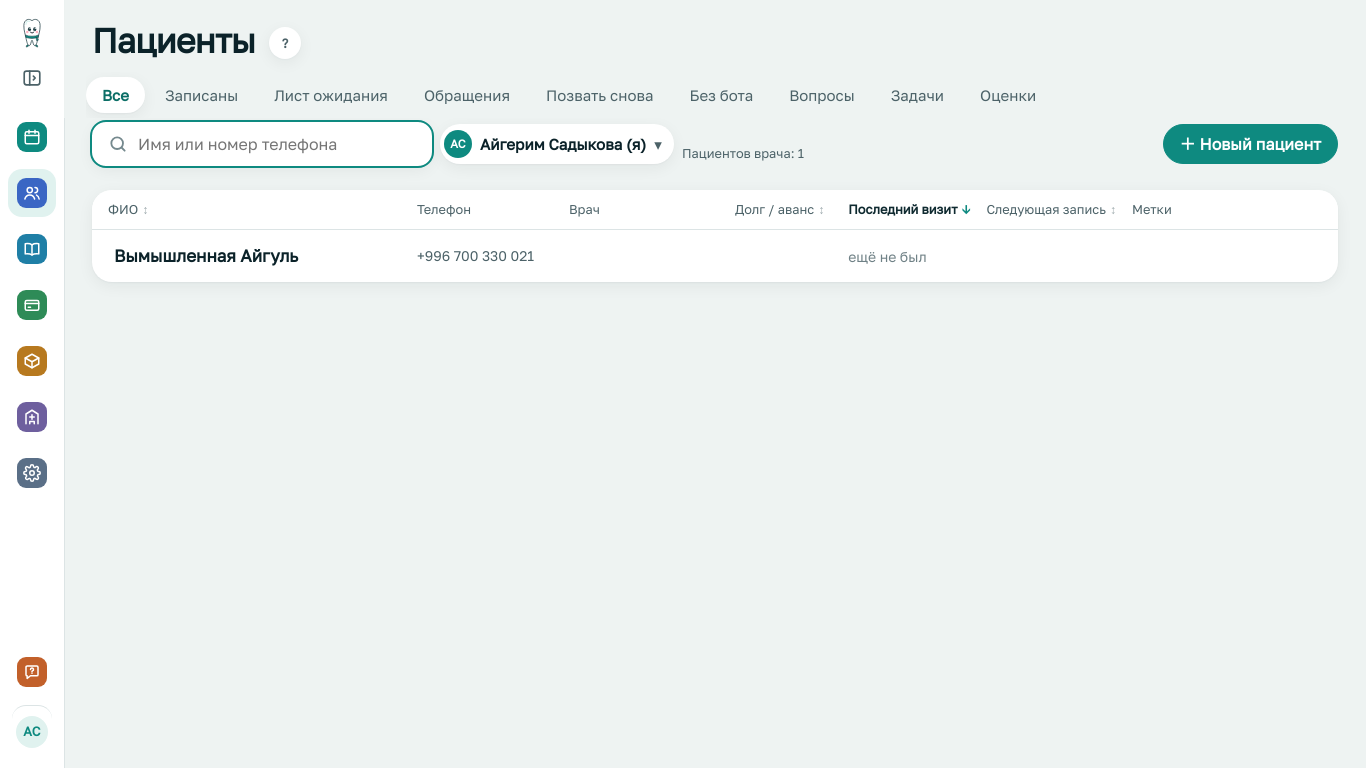
Test: семья: в шапке «аванс семьи», руководитель возвращает аванс только с причиной
Click the button "Вымышленная Айгуль".
click(206, 256)  # box [114,243,298,269]
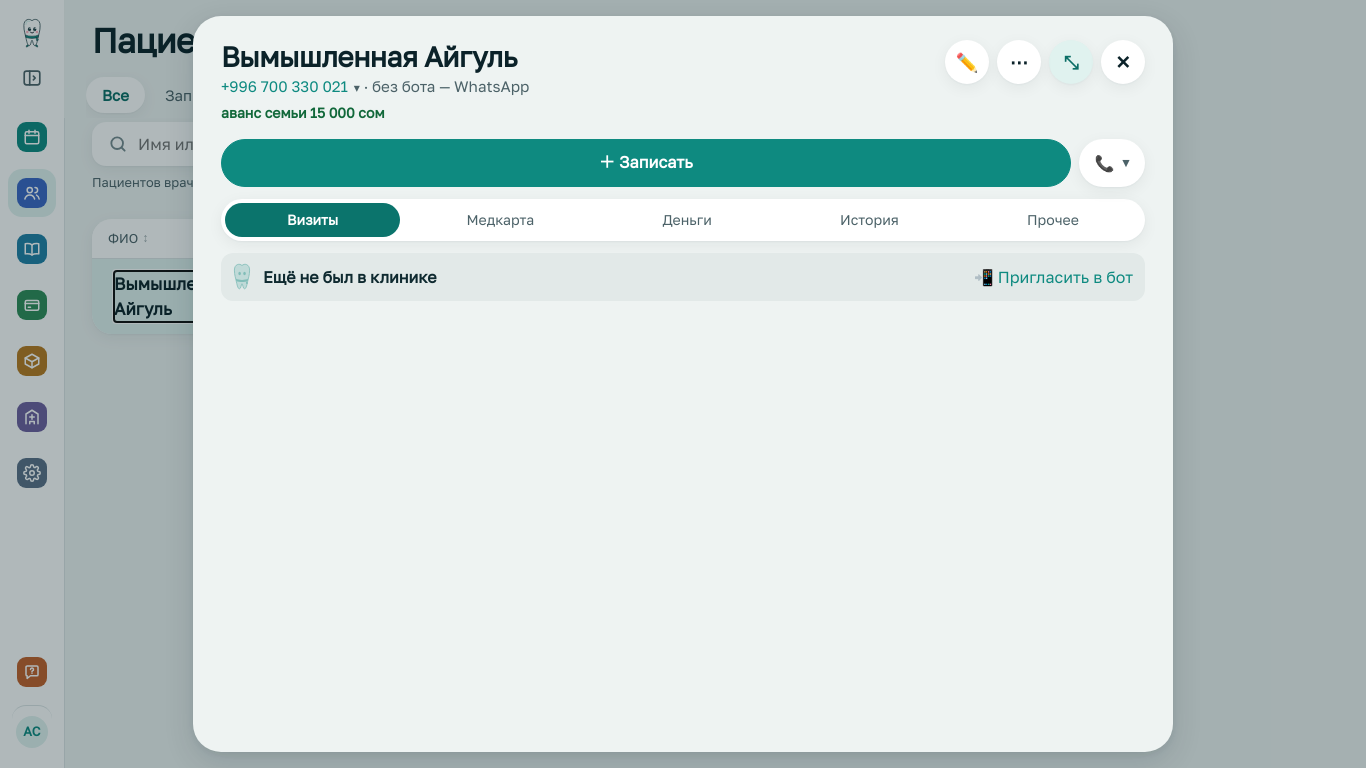
Click the button "аванс семьи 15 000 сом".
click(303, 112)  # box [221,102,385,123]
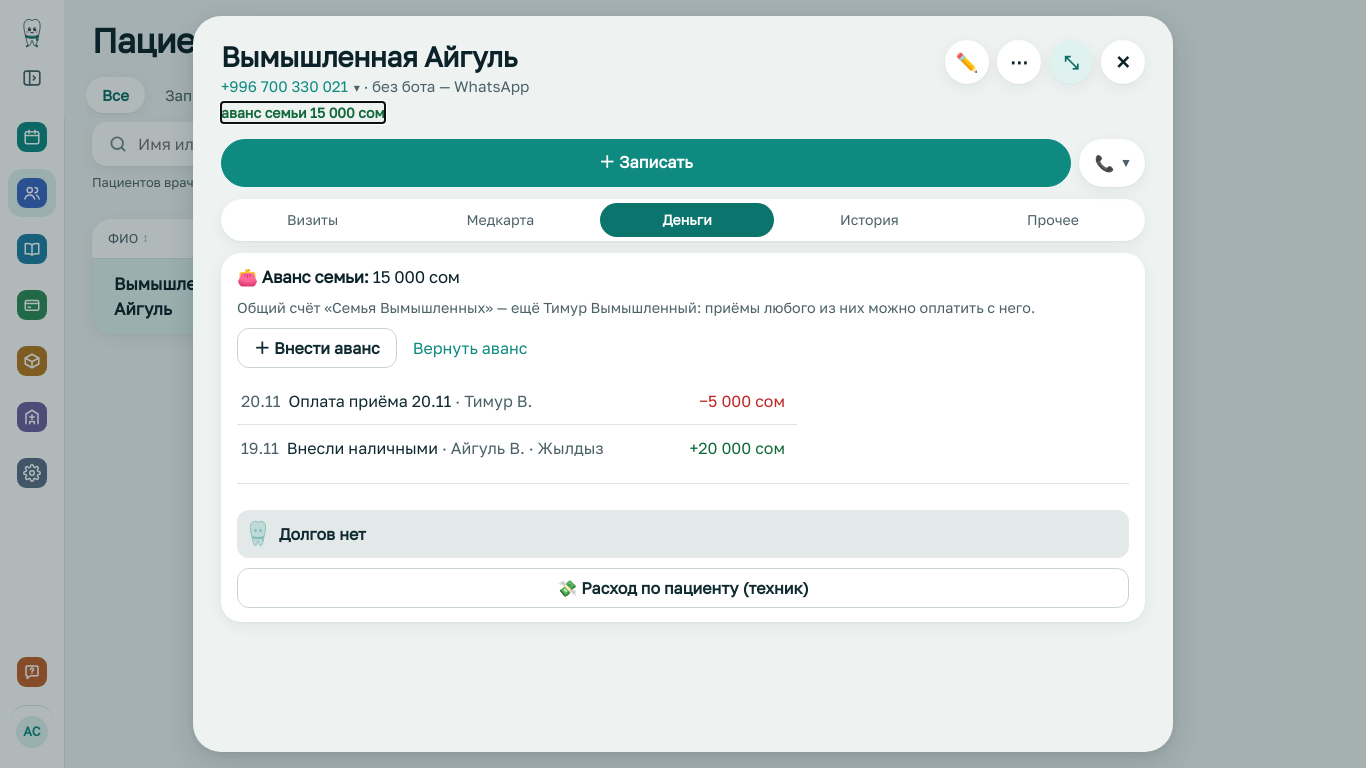
Expected: the text "Общий счёт «Семья Вымышленных» — ещё Тимур Вымышленный" is shown, [237,296,1129,318]
Click the button "Вернуть аванс".
click(470, 348)  # box [413,336,527,360]
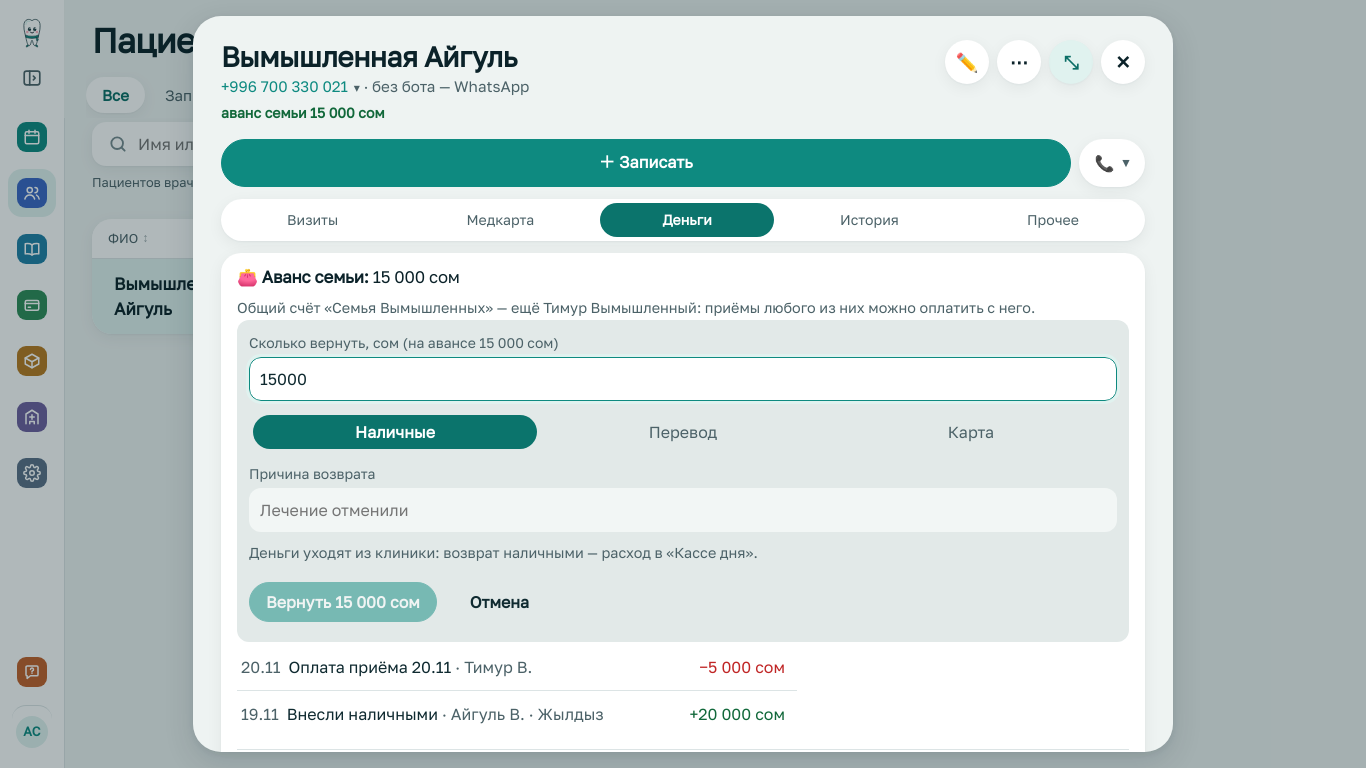
Expected: the field labelled "Сколько вернуть, сом (на авансе 15 000 сом)" holds "15000"
Replace the text in the field labelled "Сколько вернуть, сом (на авансе 15 000 сом)" with "5000" at (683,379), box [249,357,1117,401]
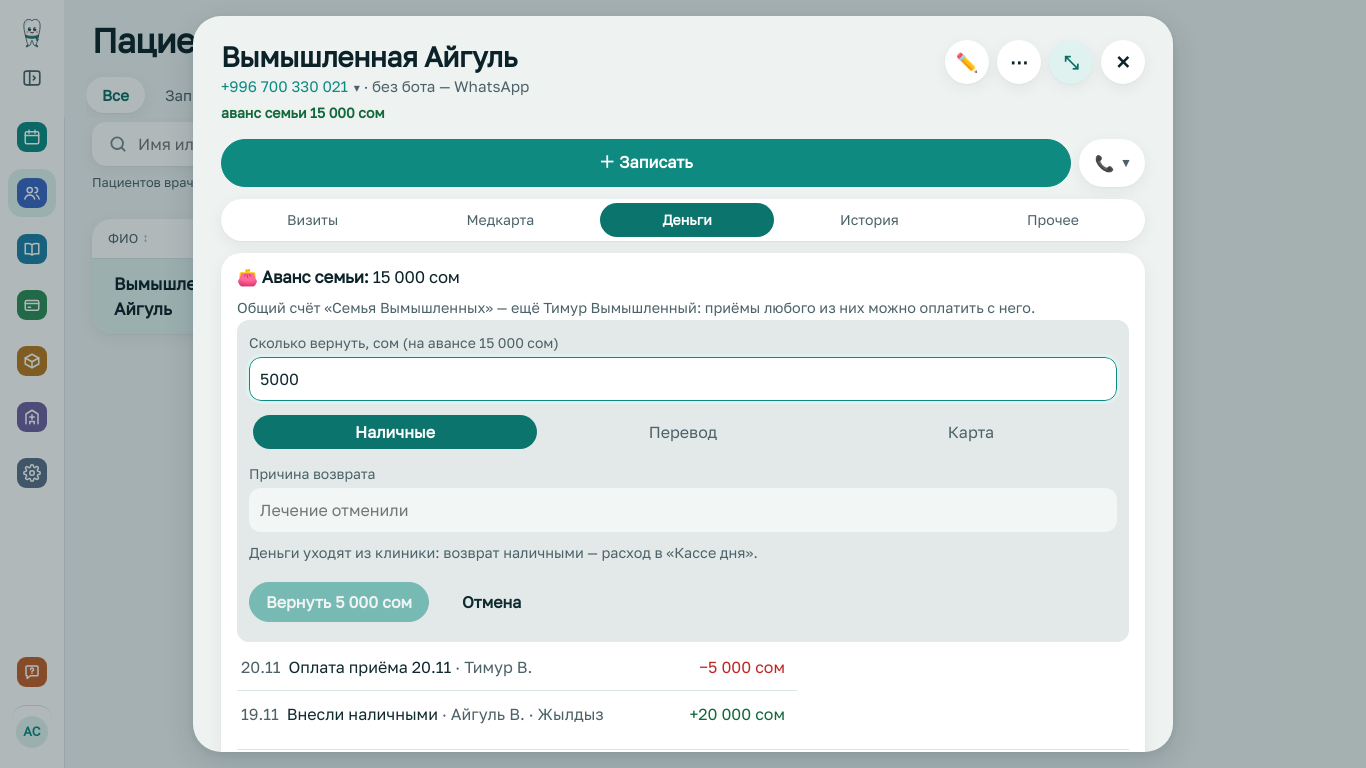
Expected: the button "Вернуть 5 000 сом" is disabled, [249,582,429,622]
Type "Переехали" into the field labelled "Причина возврата".
click(683, 510); type("Переехали")  # box [249,488,1117,532]
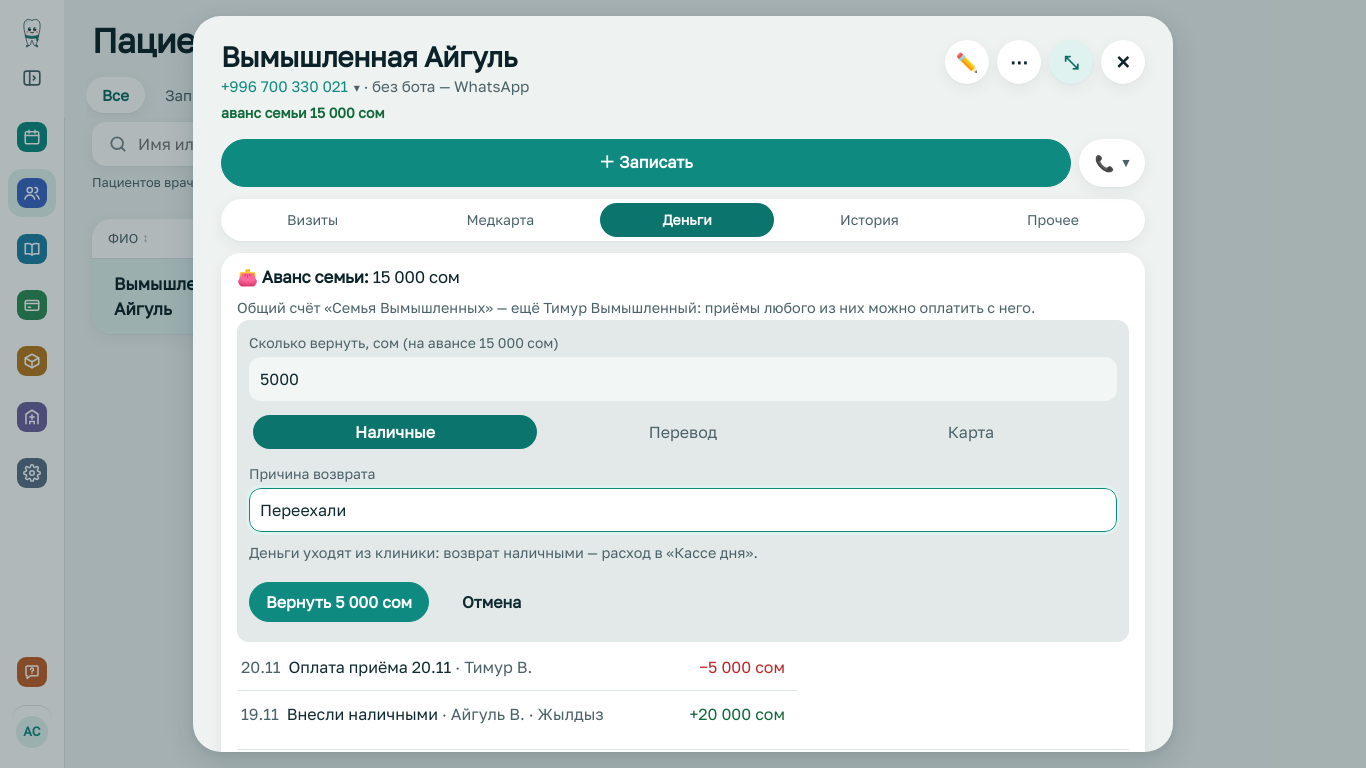
Click the button "Вернуть 5 000 сом".
click(339, 602)  # box [249,582,429,622]
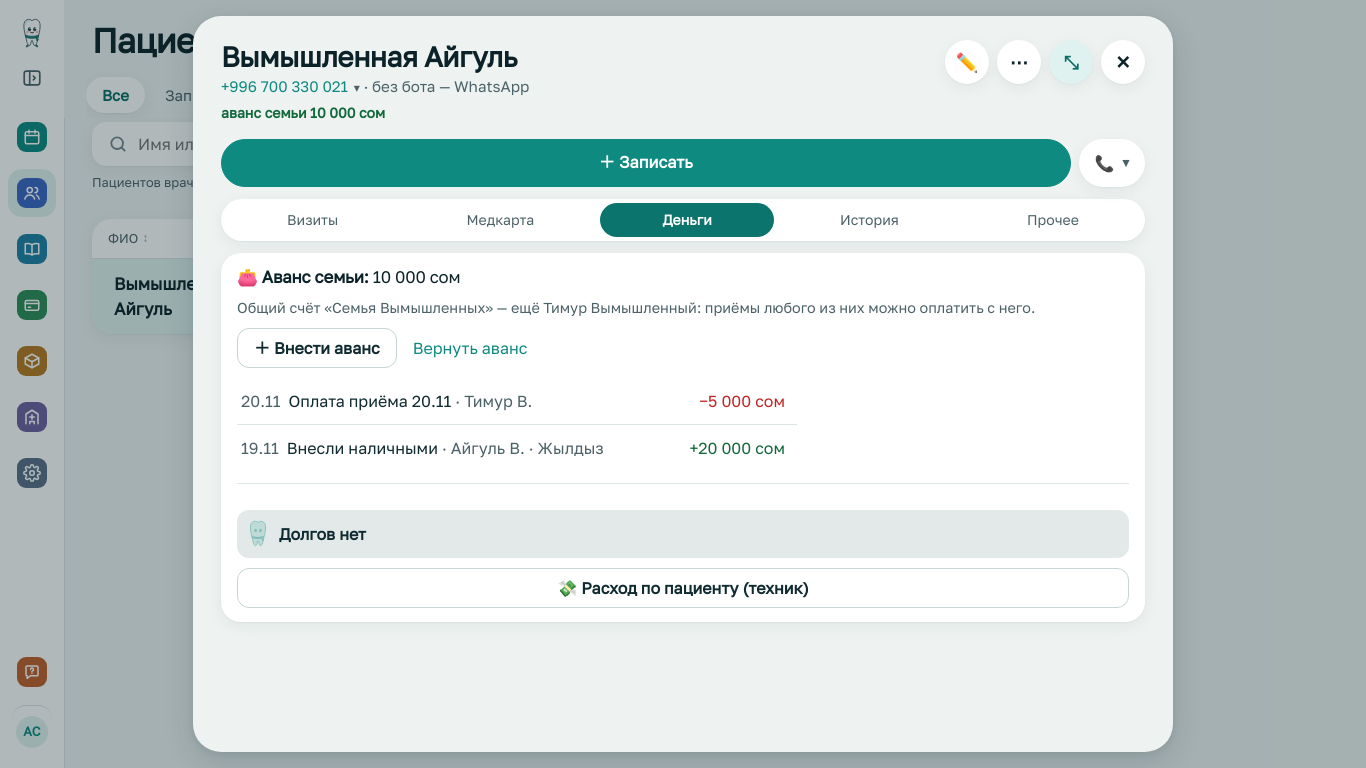
Expected: the heading "👛 Аванс семьи: 10 000 сом" is shown, [237,267,460,287]
